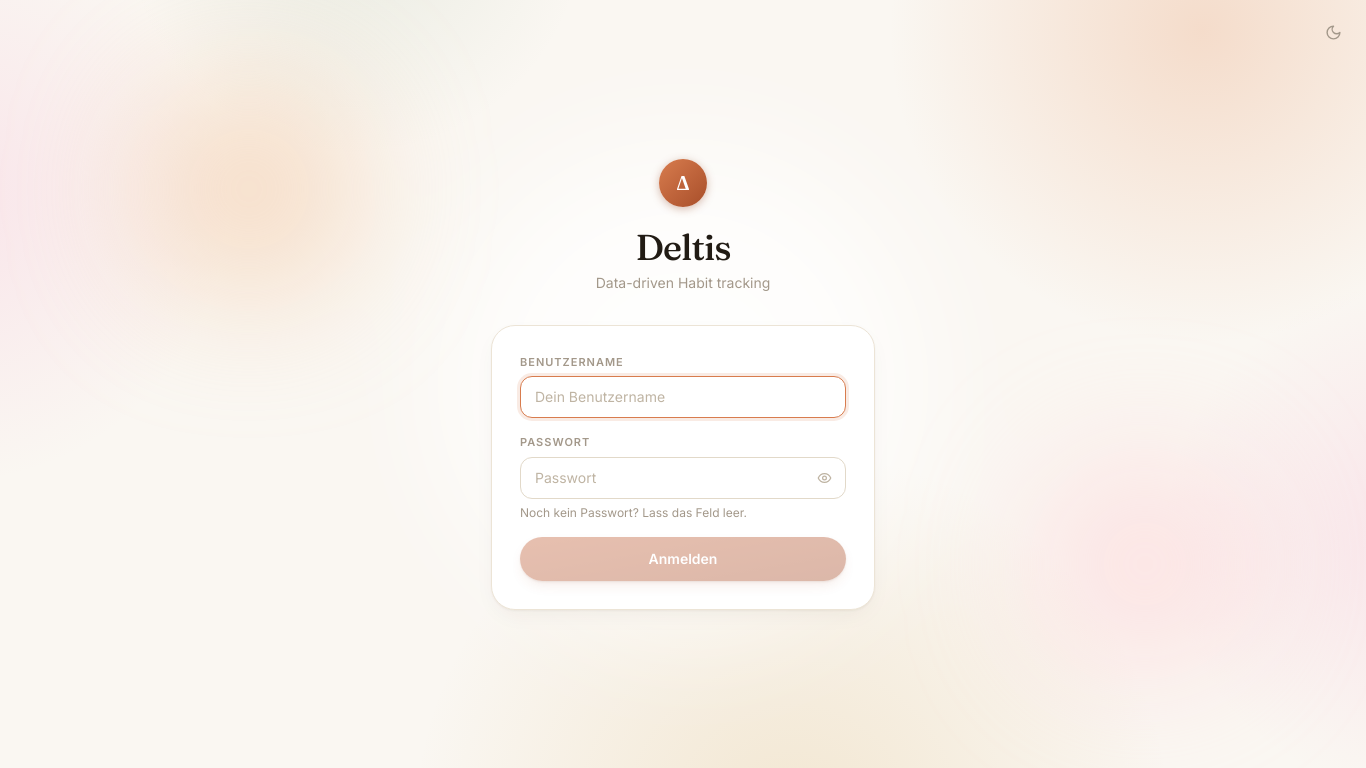
Test: Login page – normal login flow › shows loading spinner while login request is in flight
In the field with placeholder "Dein Benutzername": [683, 397] box [520,376,846,418], type "alice"
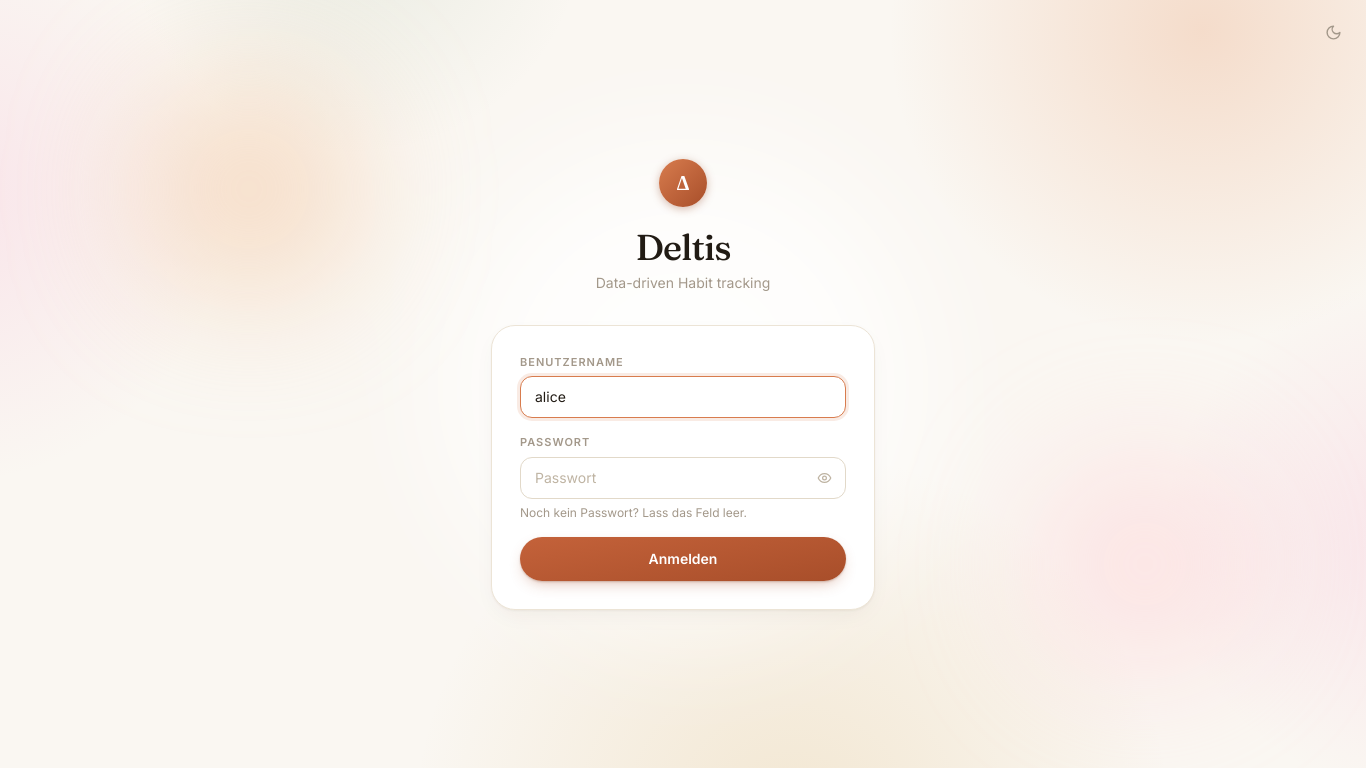
Click the button "Anmelden": [683, 558] box [520,536,846,580]
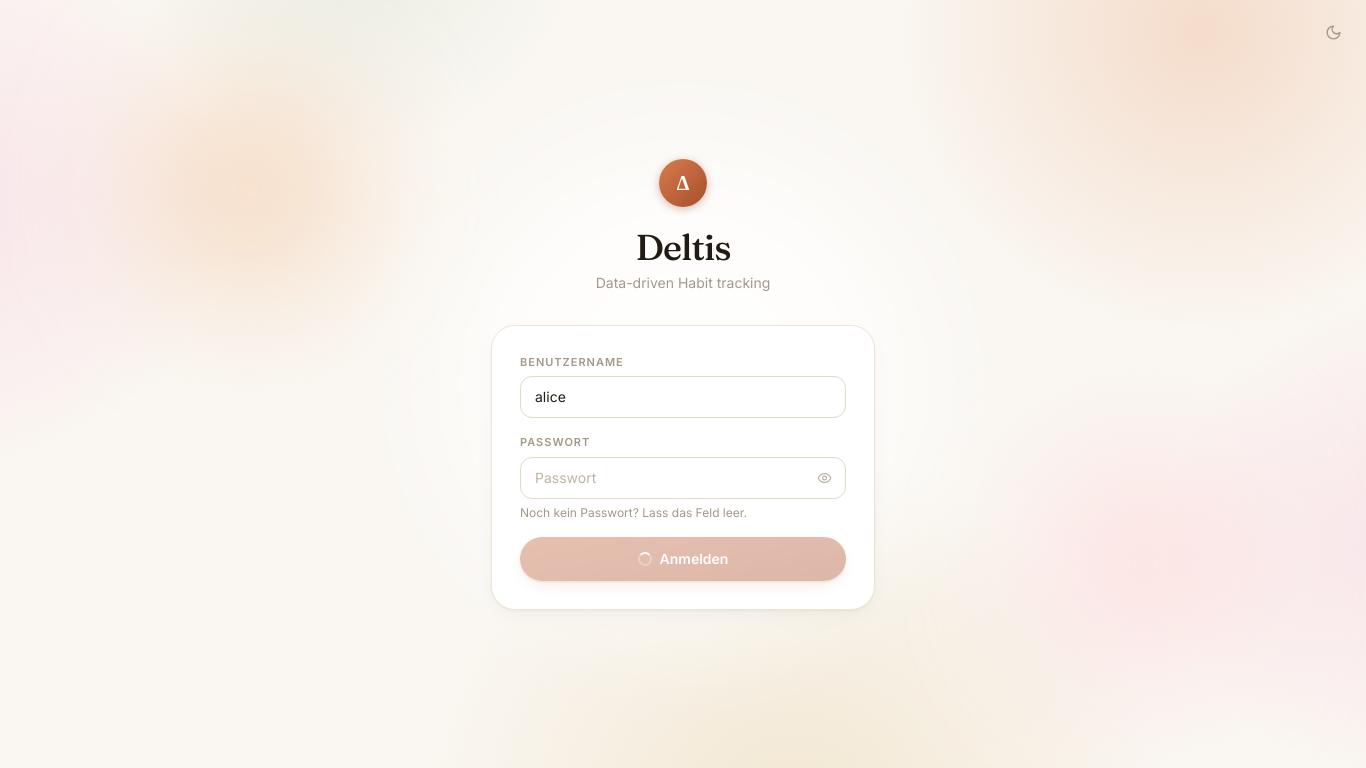
Result: the element with class "animate-spin" is shown at [638,552,652,566]
